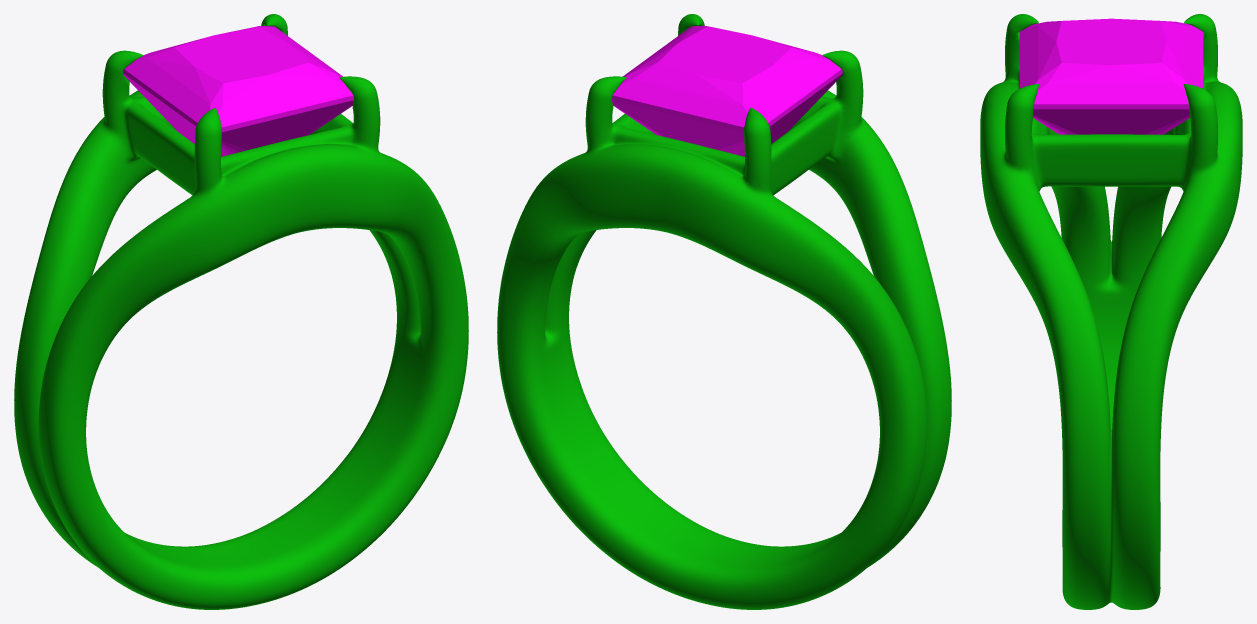
The model's file is BE1732_PR_200ct_RENDER.glb.
The picture shows the model from 3 angles, left to right: view 1: azimuth 30°, elevation 25°; view 2: azimuth 150°, elevation 25°; view 3: azimuth 270°, elevation 25°; orthographic projection.
Parts seen in each view (by area): view 1: Metal 01, CS_Diamond_Princess; view 2: Metal 01, CS_Diamond_Princess; view 3: Metal 01, CS_Diamond_Princess.
Boxes of the visible parts, x1=… form: Metal 01: x1=14, y1=14, x2=468, y2=609; CS_Diamond_Princess: x1=123, y1=26, x2=353, y2=156; Metal 01: x1=497, y1=14, x2=951, y2=609; CS_Diamond_Princess: x1=612, y1=26, x2=842, y2=156; Metal 01: x1=980, y1=14, x2=1242, y2=609; CS_Diamond_Princess: x1=1019, y1=18, x2=1203, y2=134.
Bounding box in the file's own units: 20.1 × 24.58 × 10.73.
